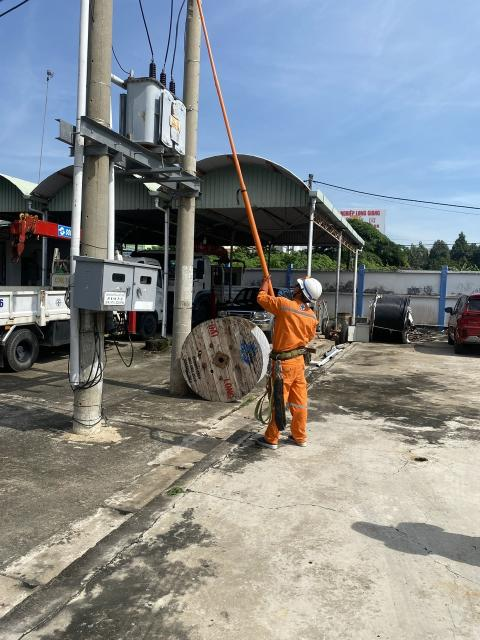gloves: (252, 273, 277, 294)
harness: (268, 342, 303, 366)
helmet: (293, 270, 327, 304)
shoes: (253, 433, 282, 452), (284, 433, 310, 450)
